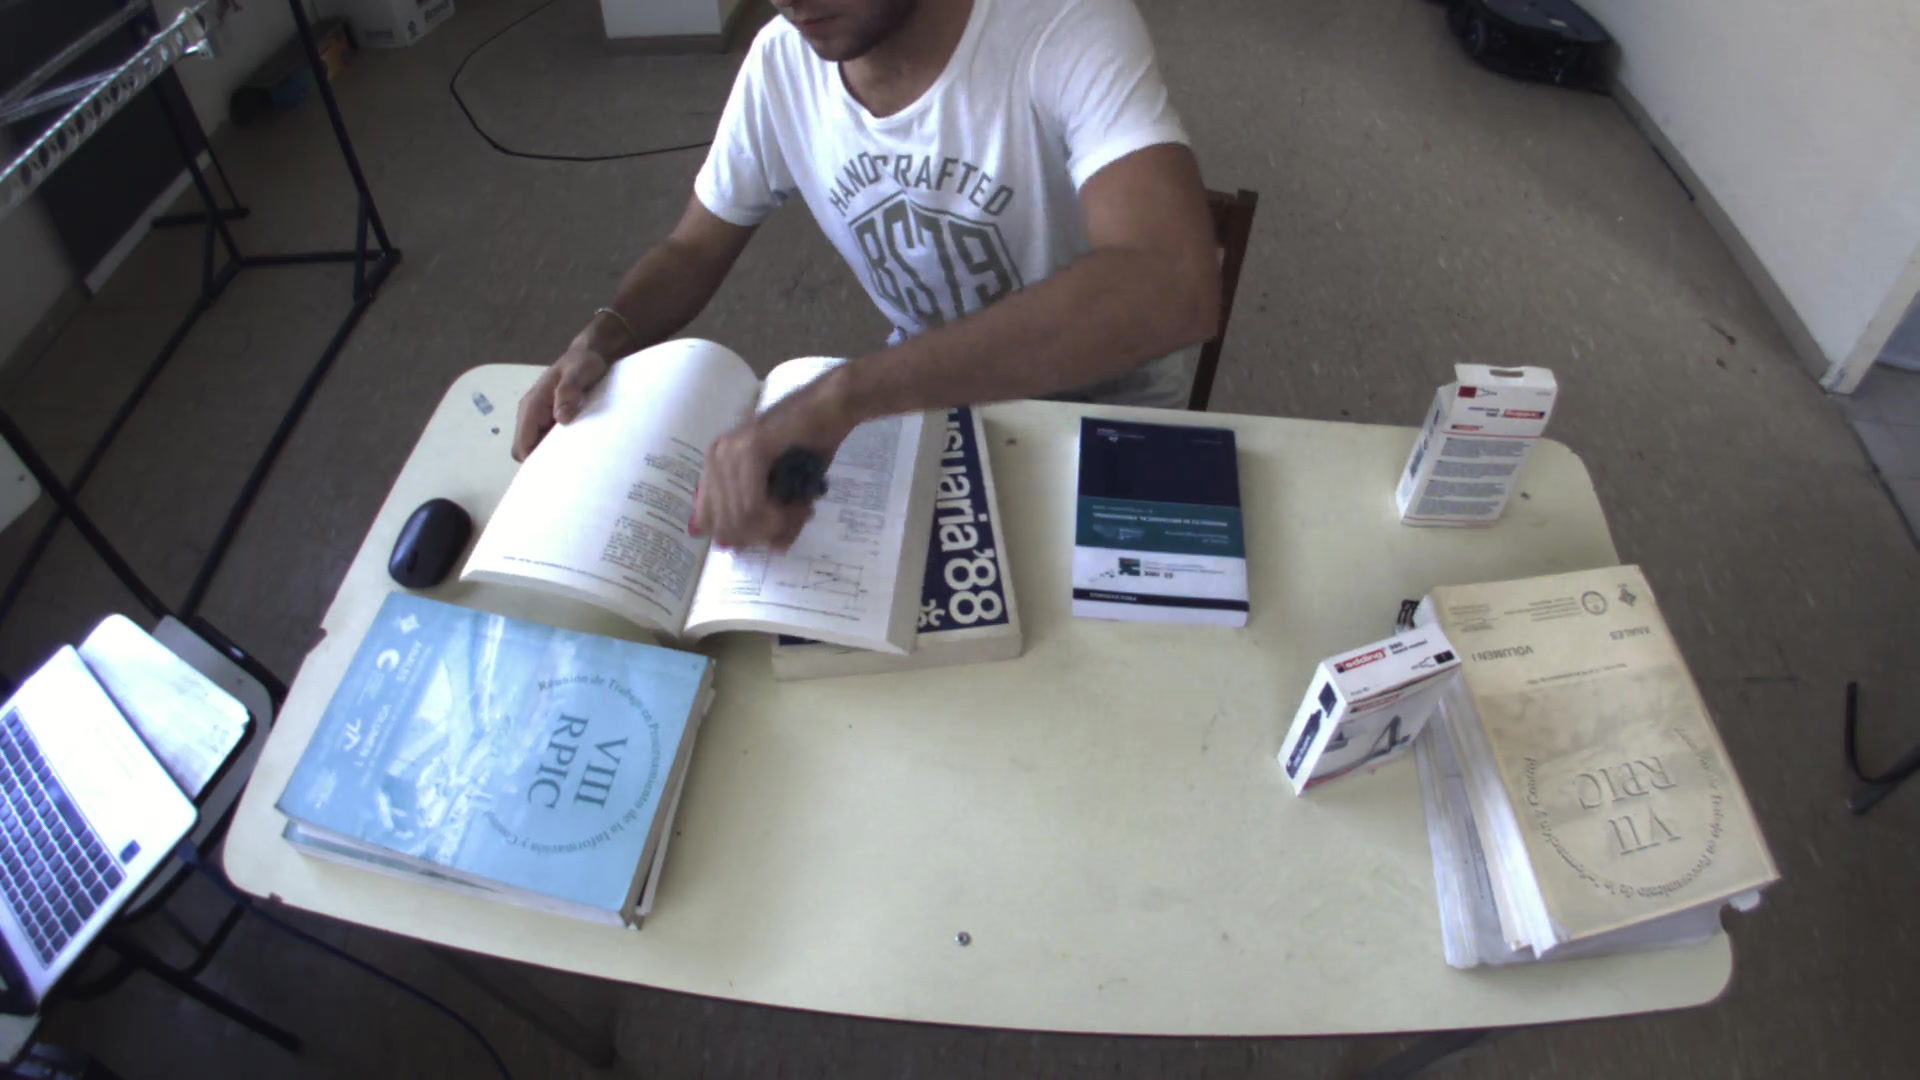hand: (676, 409, 825, 559), (496, 310, 624, 450)
